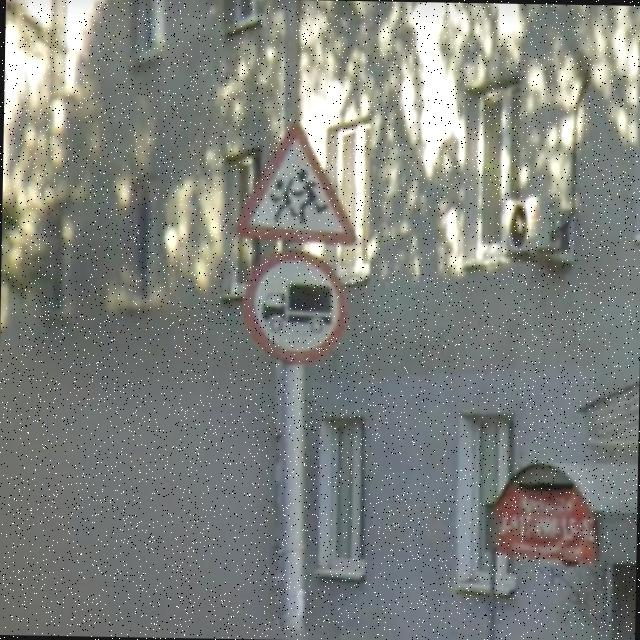Dzieci: (221, 115, 371, 252)
